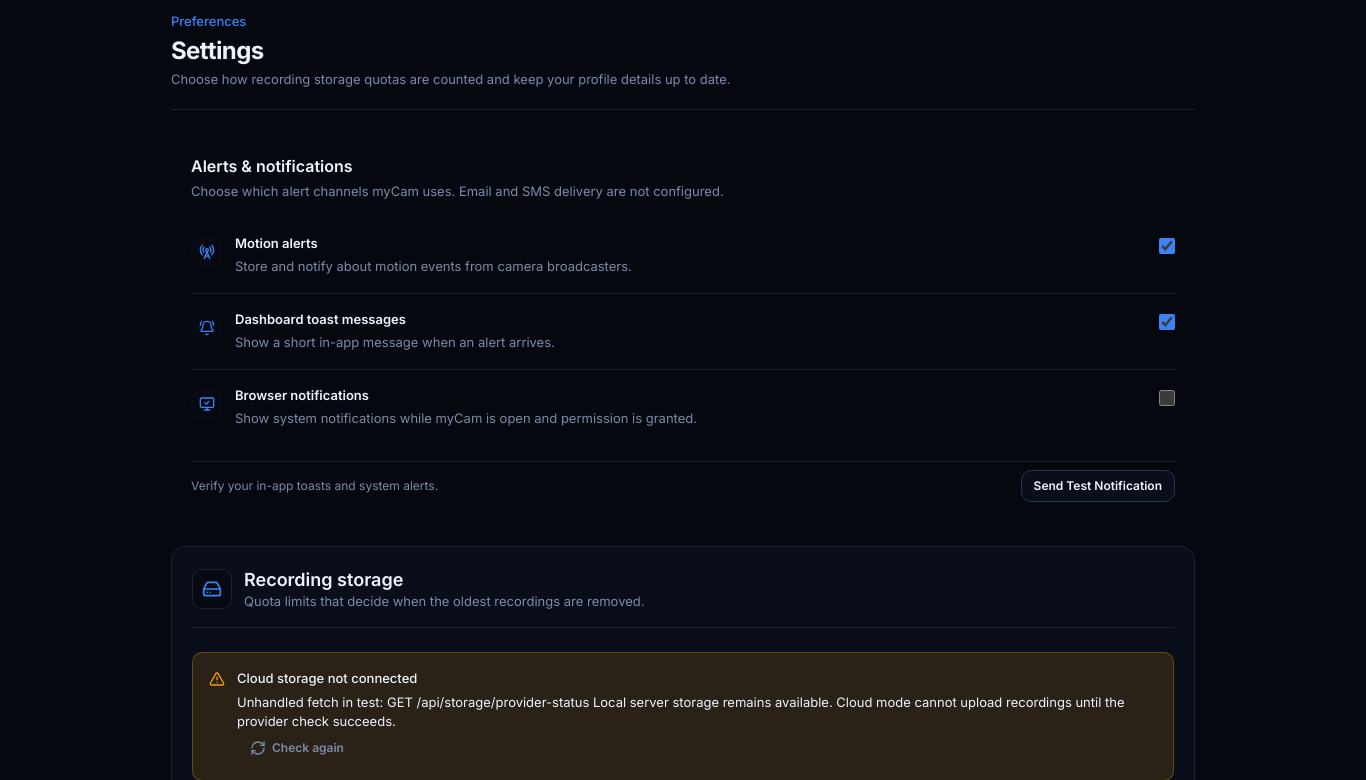
Settings - Send Test Notification (regression: failures were silent) › posts the existing alert contract and confirms success to the user
This screenshot has width=1366, height=780.
Expected: the checkbox labelled "Motion alerts" is enabled, left=1159, top=238, right=1175, bottom=254
Click the button "Send Test Notification" at point(1098, 486), box left=1021, top=470, right=1175, bottom=502
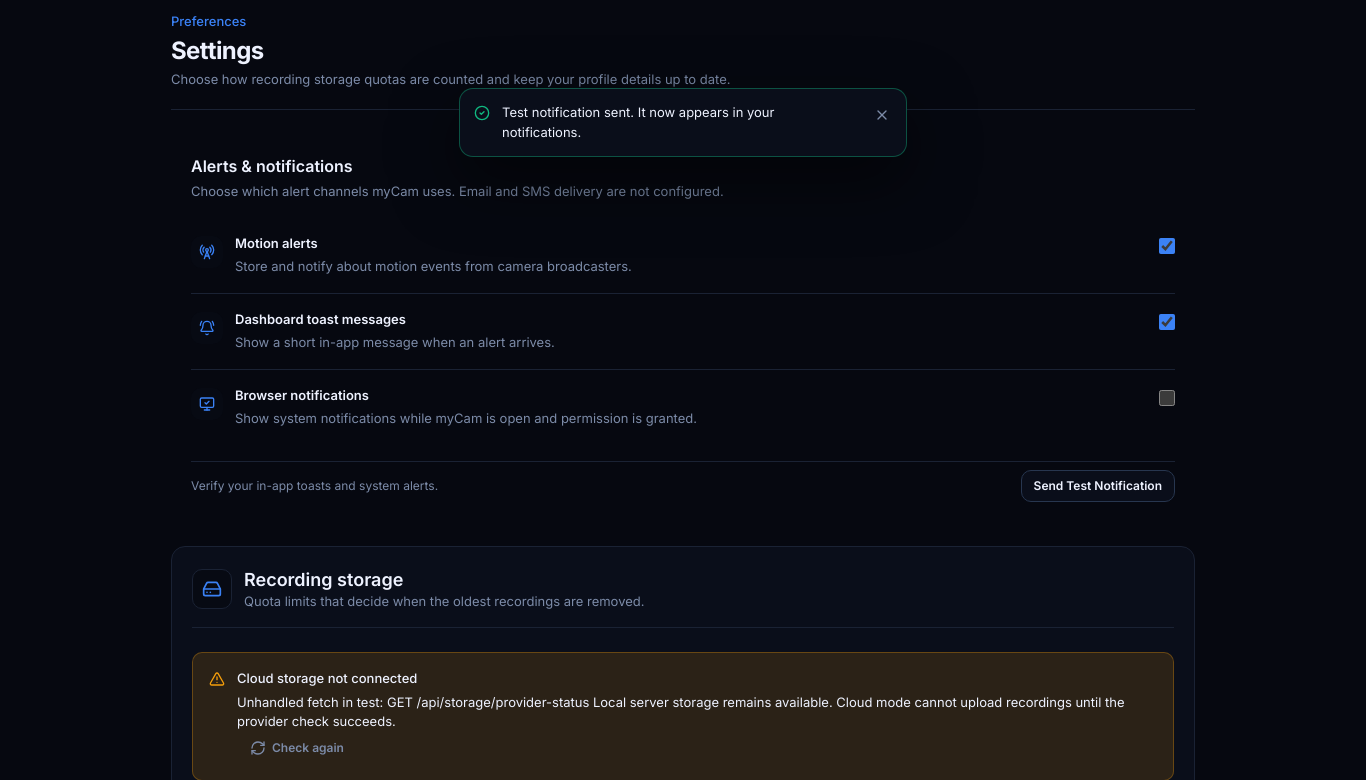
Expected: the text "Test notification sent. It now appears in your notifications." is shown, left=459, top=88, right=907, bottom=157
